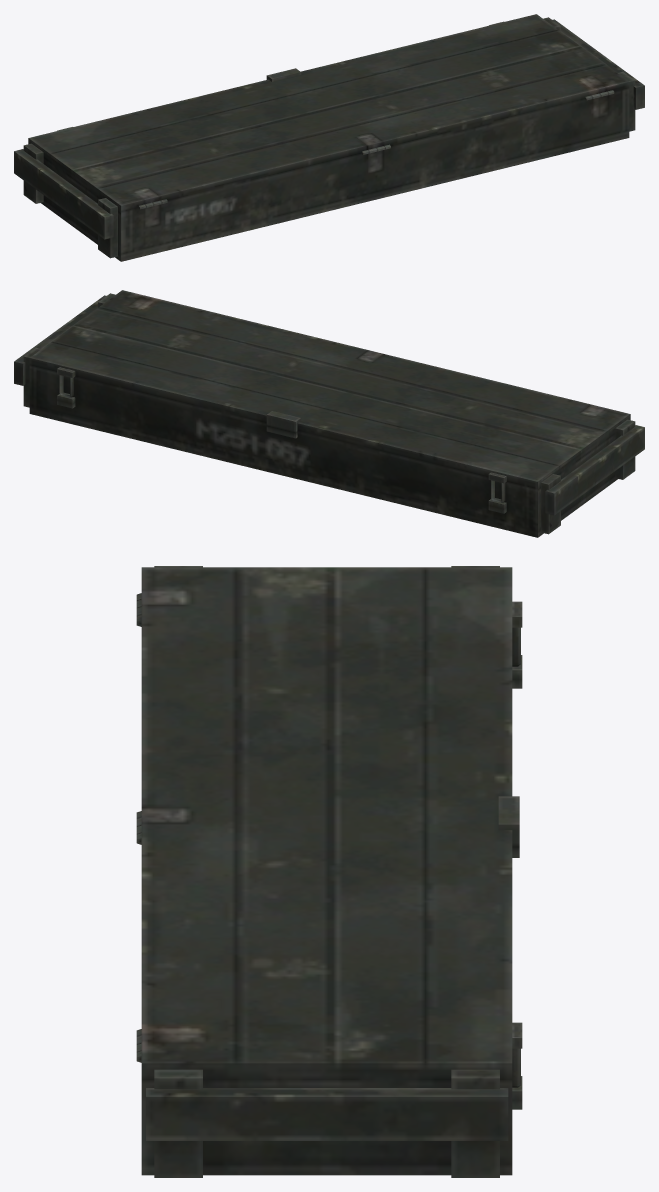
File: crate3.obj
3 views of the same model, one above another, from view 1: azimuth 30°, elevation 25°; view 2: azimuth 150°, elevation 25°; view 3: azimuth 270°, elevation 25° (orthographic). The views are drawn at different scales.
Visible parts, largest first — view 1: studio_crateroc_ref_mesh_0; view 2: studio_crateroc_ref_mesh_0; view 3: studio_crateroc_ref_mesh_0.
Boxes of the visible parts, bbox=[...] form: studio_crateroc_ref_mesh_0: bbox=[14, 14, 644, 261]; studio_crateroc_ref_mesh_0: bbox=[14, 290, 644, 537]; studio_crateroc_ref_mesh_0: bbox=[136, 566, 522, 1177].
Bounding box in the file's own units: 57.38 × 5.96 × 17.74.
